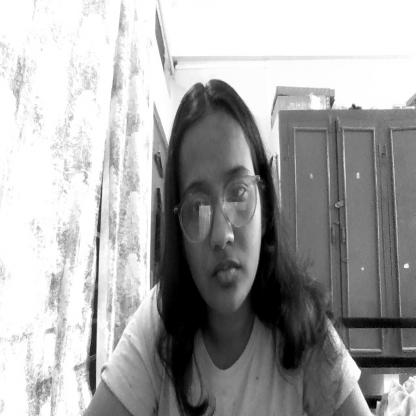Normal: (173, 119, 277, 323)
